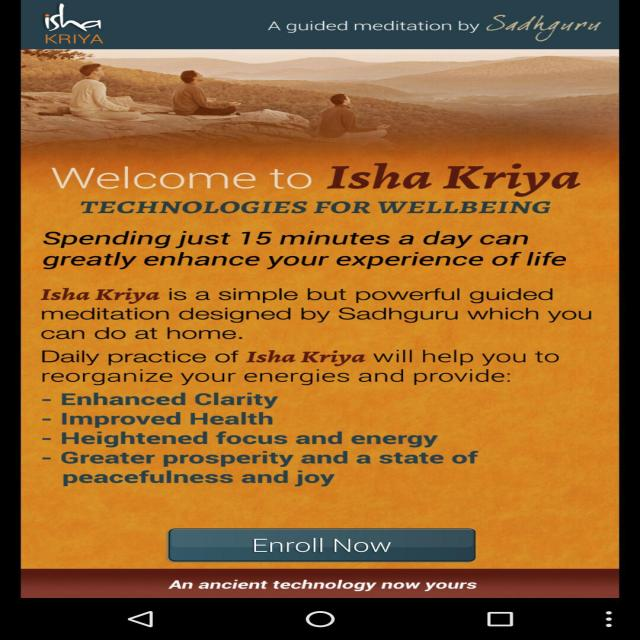button: (112, 506, 556, 568)
image: (11, 49, 628, 147)
text: (29, 151, 640, 496), (252, 14, 620, 38), (107, 576, 538, 594)
